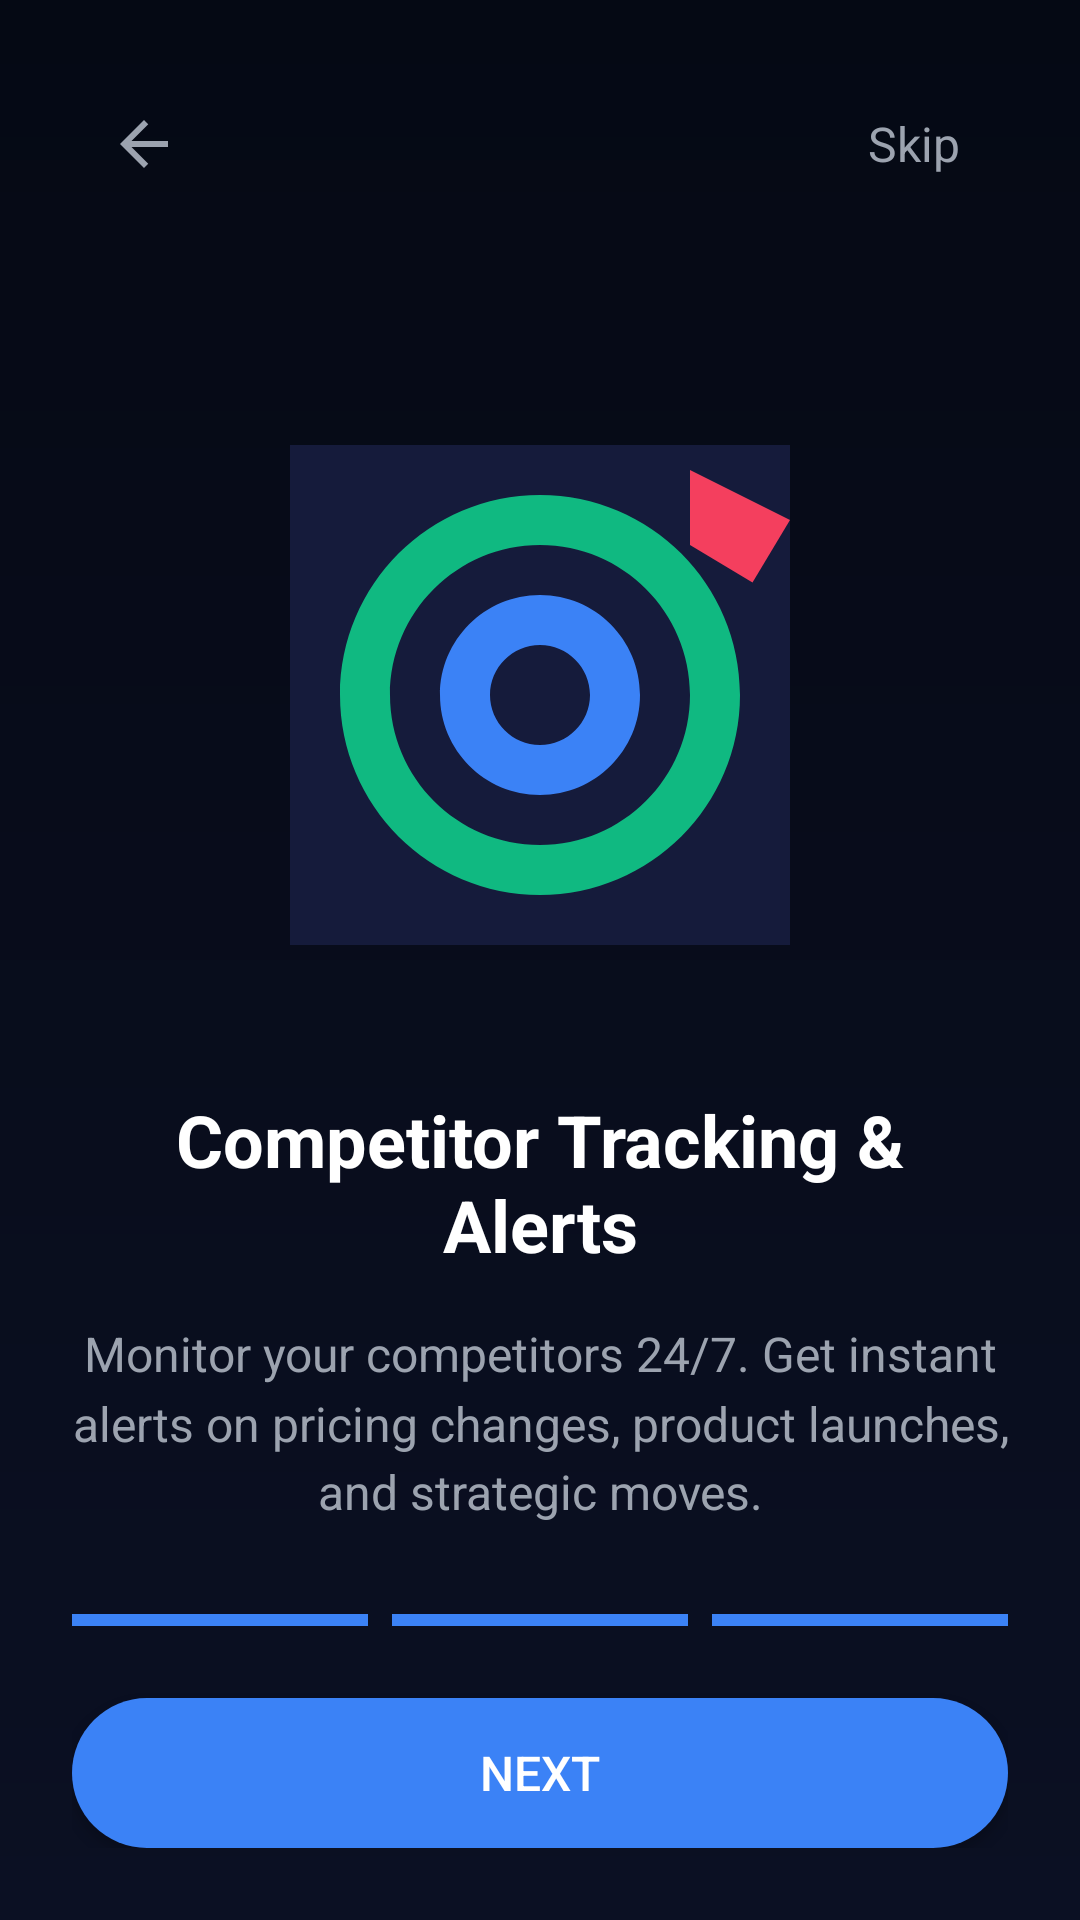

Icon bounding boxes for this 1080w x 1920h phone screenshot, format {"x1": x1, "y1": y1, "x2": x2, "y2": y2}:
back arrow: {"x1": 120, "y1": 120, "x2": 168, "y2": 168}
